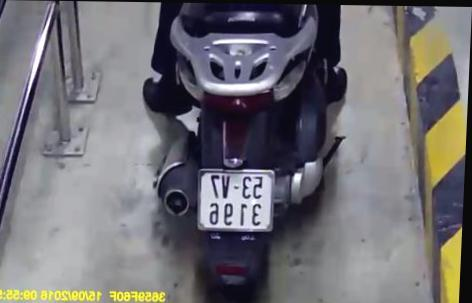License_Plate: (189, 162, 285, 234)
